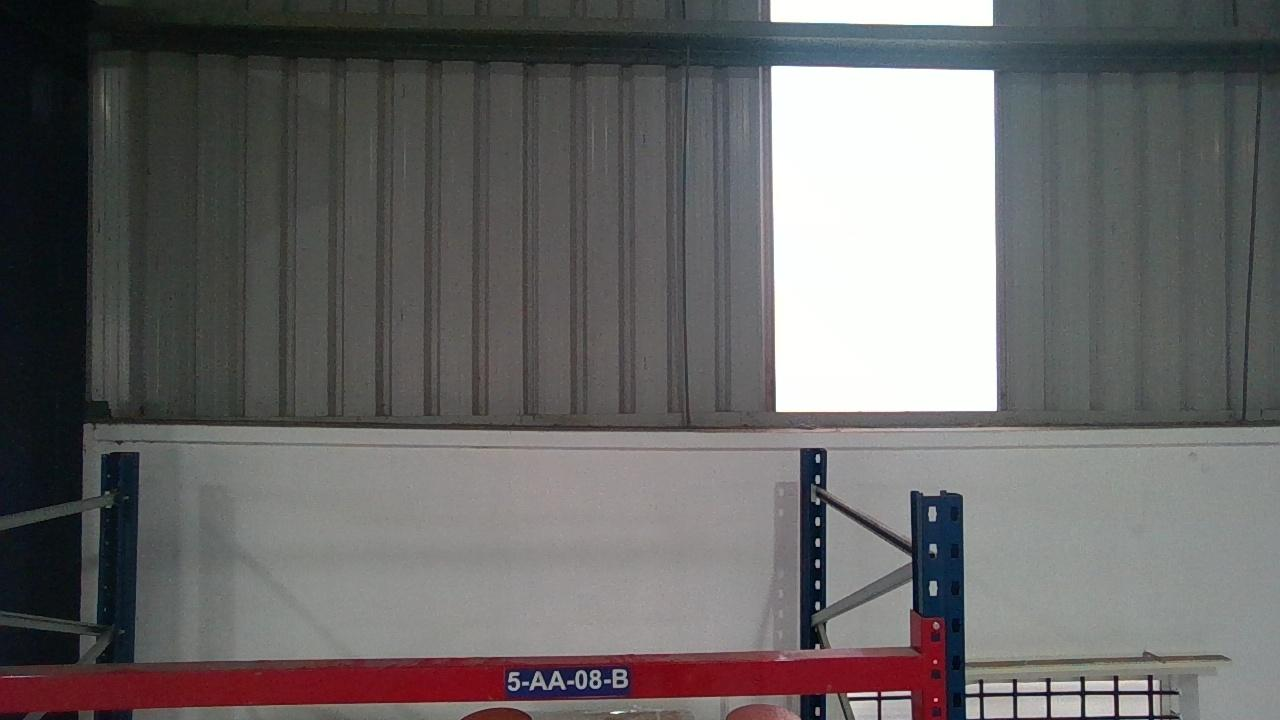h_rack: (1, 657, 923, 710)
